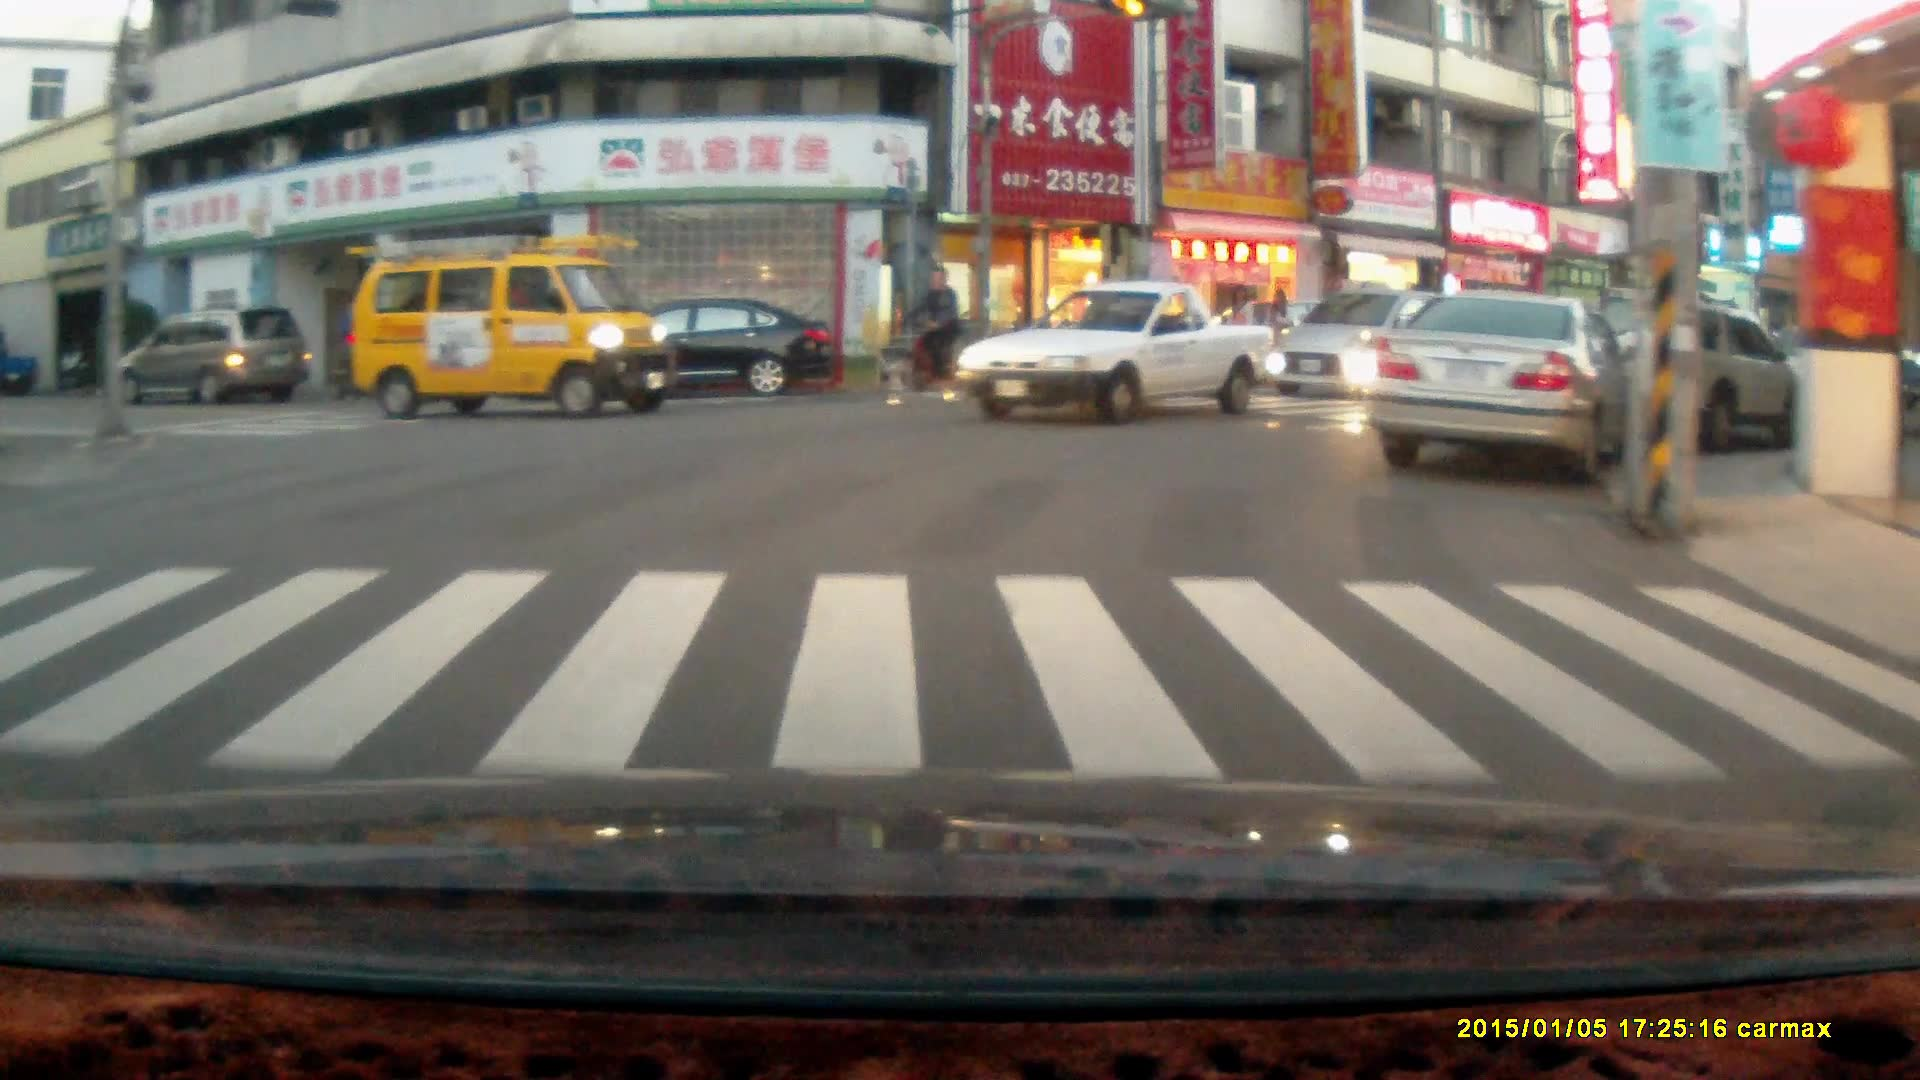pedestrian: (1224, 283, 1255, 374), (1265, 287, 1292, 381)
rider: (876, 261, 982, 406)
vehicle: (342, 231, 683, 423), (955, 278, 1283, 427), (1366, 286, 1610, 487), (1558, 290, 1818, 457), (569, 295, 834, 403), (1262, 285, 1458, 404), (109, 302, 319, 413)
